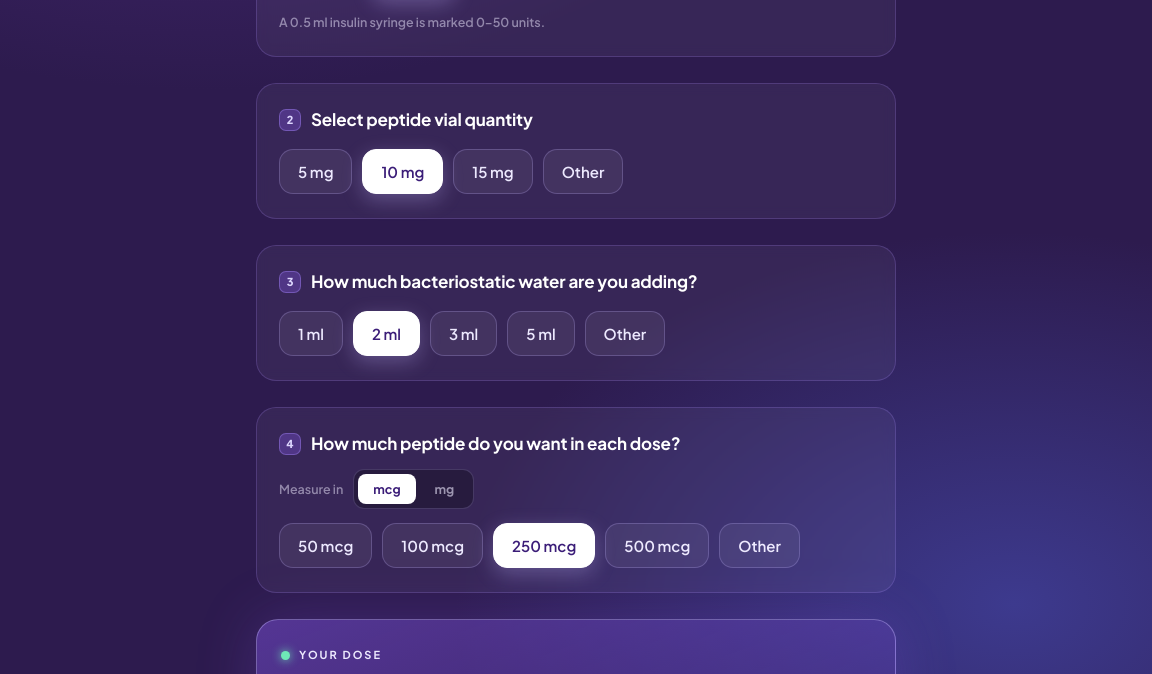
Test case: PeptideCalculator — reading a dose › recalculates when more water is added to the same vial
(page scrolled)
Click the radio button labelled "5 ml". click: x=541, y=334
box: x1=507 y1=311 x2=575 y2=356
(page scrolled)
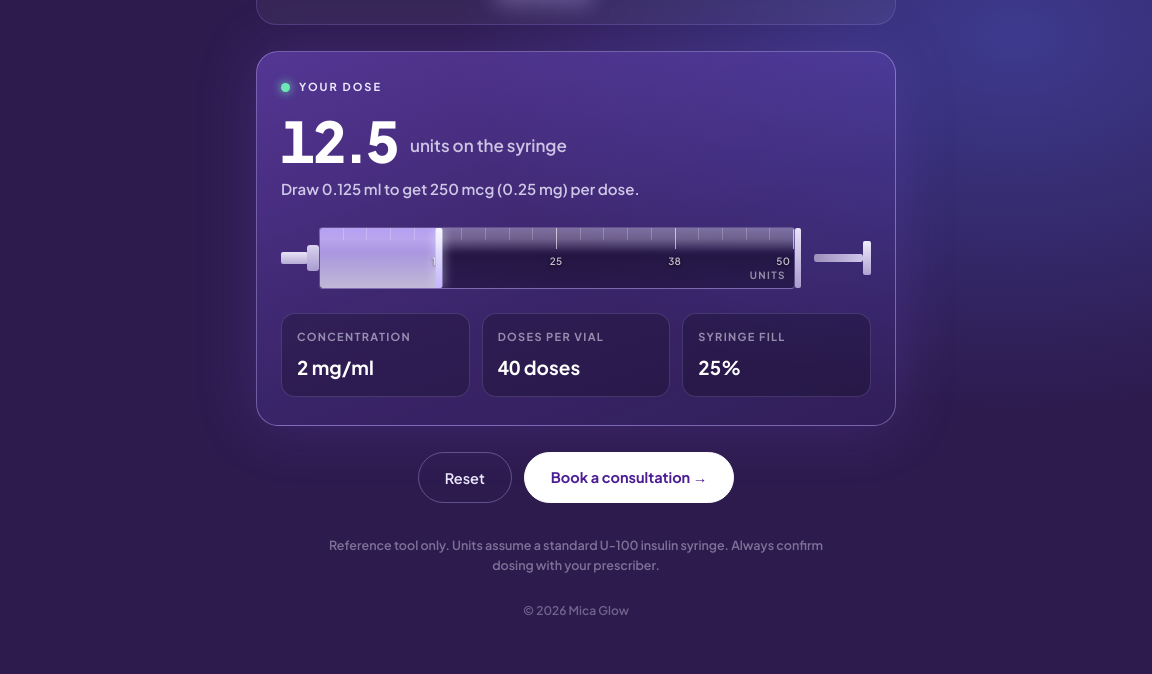
Expected: the text "12.5" is shown, x1=281 y1=114 x2=398 y2=167
Expected: the text "2 mg/ml" is shown, x1=297 y1=355 x2=374 y2=379
